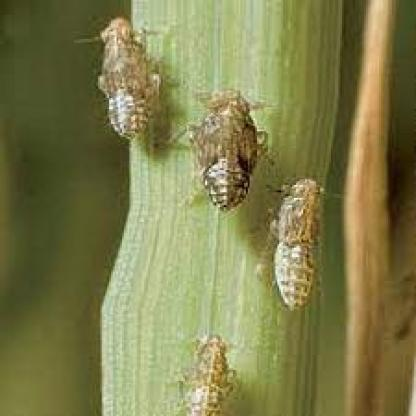brown-planthopper: (195, 92, 260, 209), (273, 176, 326, 312), (96, 13, 153, 136), (184, 334, 230, 416)
